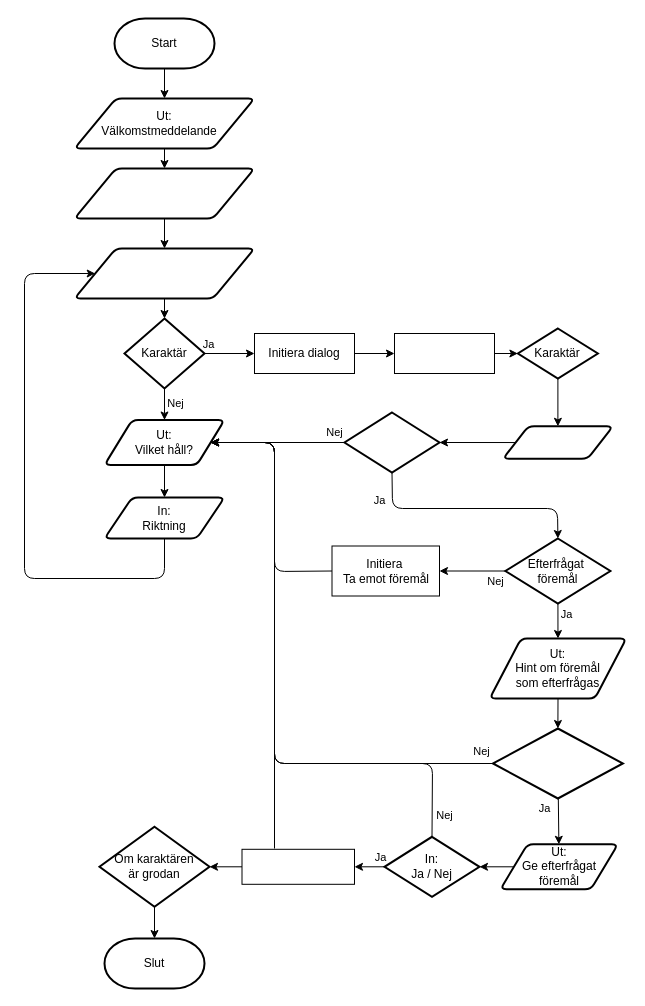
Some shapes in this 645 by 1006 pixel diagram are drawn without their labels. The shapes that lost their labels are listed below. From the top down, each one's centre as x and y in pixels, then its label:
pixel 164 193: In: Valfri tanget
pixel 164 273: Rensa konsol Ut: Rumsbeskrivning
pixel 444 353: Switch: Karaktär namn
pixel 391 442: Föremål
pixel 557 442: Ut: Dialog
pixel 557 763: Efterfrågat föremål finns i inventory
pixel 297 866: Initiera utbyte av föremål
